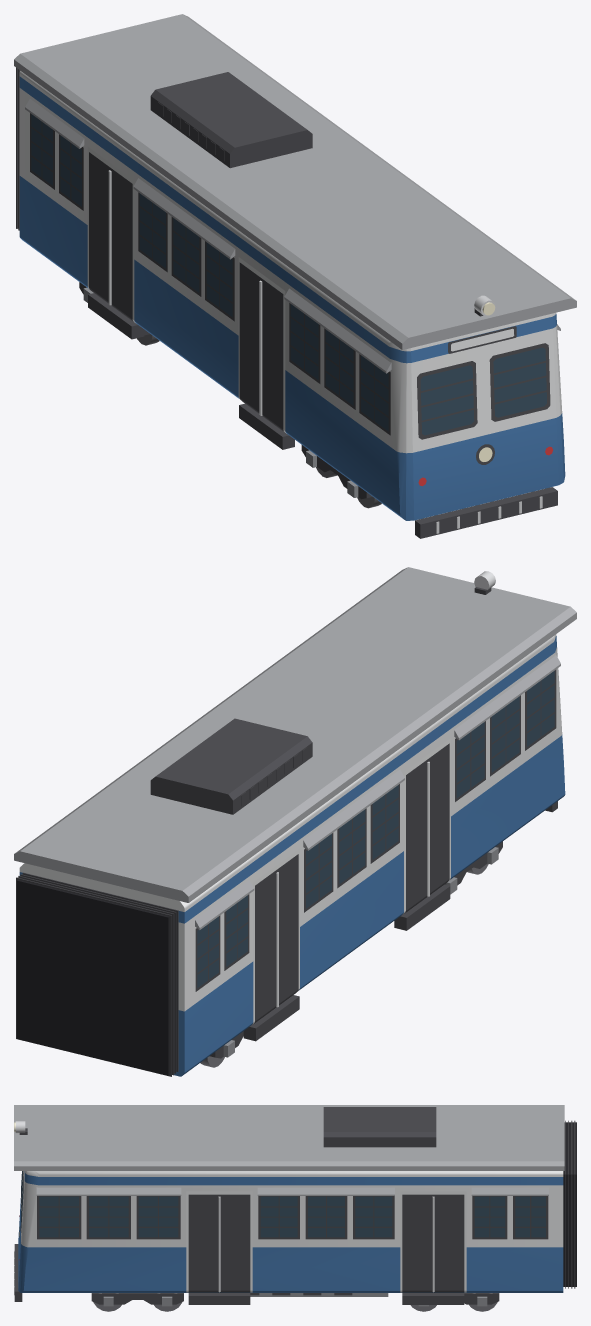
Rendered from 316_close.fbx.
3 views of the same model, one above another, from view 1: azimuth 30°, elevation 25°; view 2: azimuth 150°, elevation 25°; view 3: azimuth 270°, elevation 25° (orthographic). The views are drawn at different scales.
Parts seen in each view (by area): view 1: 316_close; view 2: 316_close; view 3: 316_close.
Boxes of the visible parts, box(x1,y1,x2,y2) form: 316_close: box(14, 14, 576, 538); 316_close: box(14, 567, 576, 1076); 316_close: box(14, 1105, 576, 1311).
Bounding box in the file's own units: 2.54 × 3.37 × 10.
